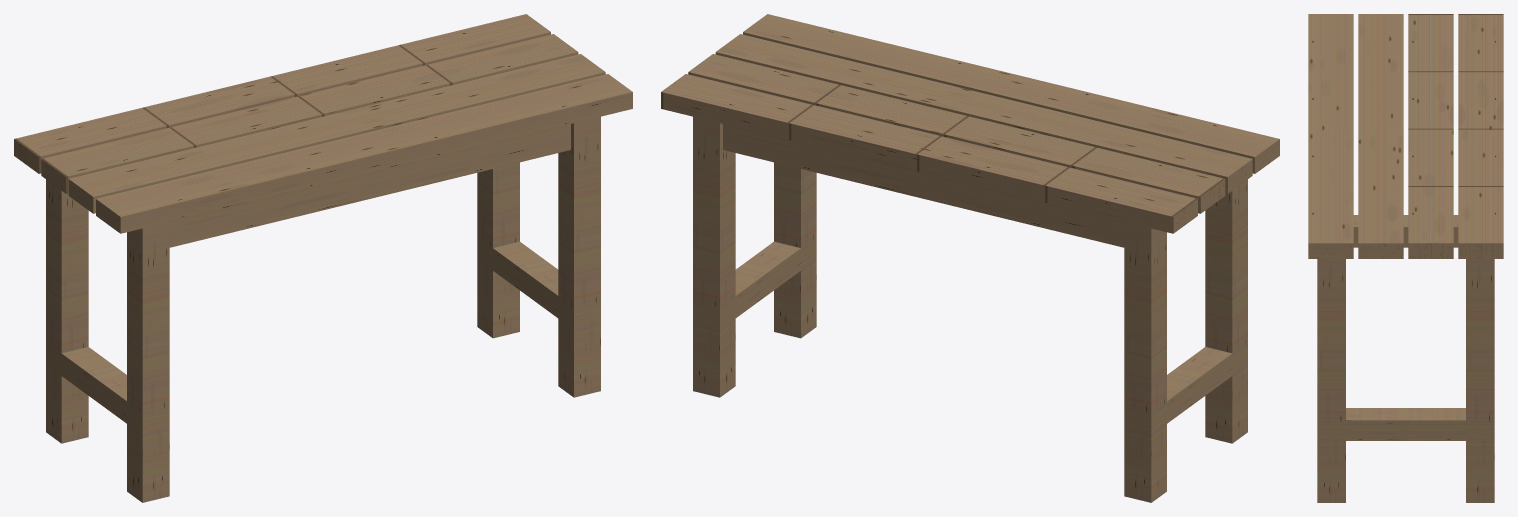
The model's file is engawabench.glb.
3 views of the same model, side by side, from view 1: azimuth 30°, elevation 25°; view 2: azimuth 150°, elevation 25°; view 3: azimuth 270°, elevation 25° (orthographic). The views are drawn at different scales.
Visible parts, largest first — view 1: engawabench; view 2: engawabench; view 3: engawabench.
Part boxes in pixels (x1,y1,x2,y2): engawabench: (14, 14, 632, 502); engawabench: (661, 14, 1279, 502); engawabench: (1308, 14, 1503, 502).
Bounding box in the file's own units: 0.95 × 0.525 × 0.342.
Materials: 1 (1 with a texture image).
